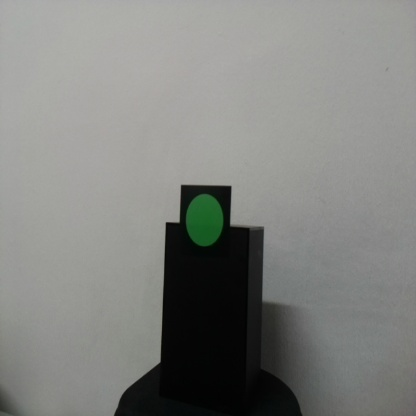id_5: (179, 185, 231, 264)
